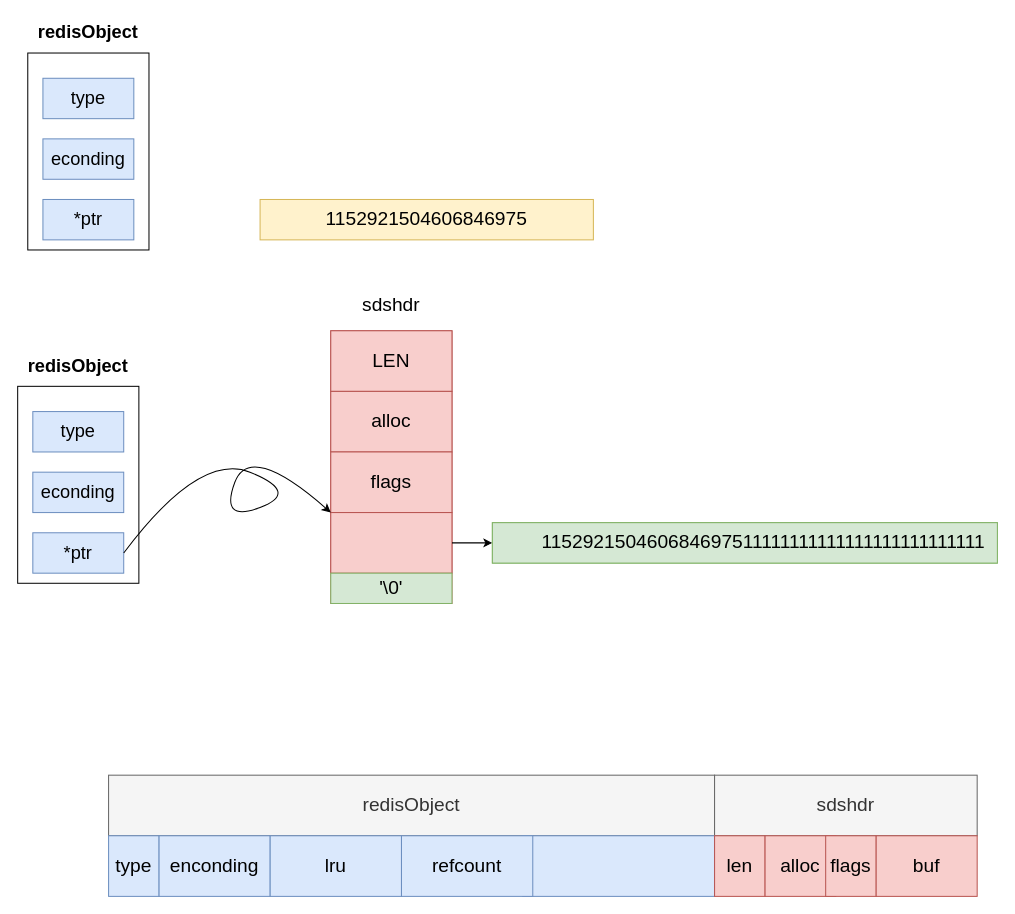
The diagram is 1015 pixels wide and 914 high, and some of its shapes have lost their labels. The box of each missing label's shape, as (x1, y1, x2, y2) in pixels:
buffer: (330, 512, 452, 573)
ptr: (522, 835, 715, 896)
